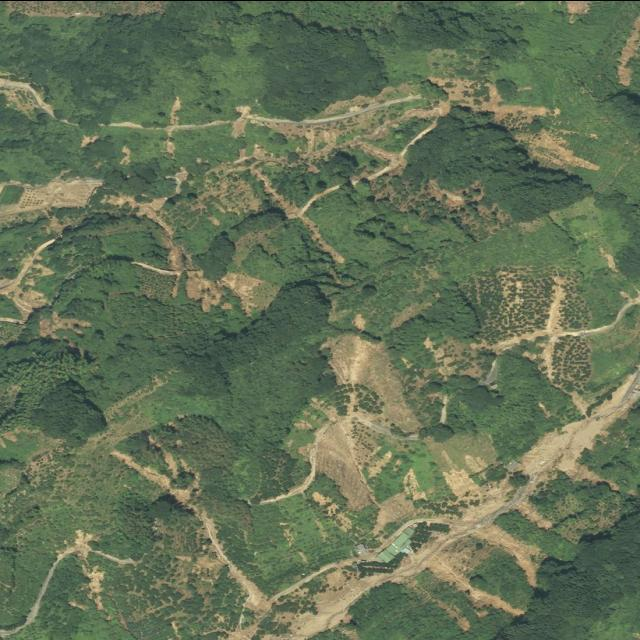landslide: (420, 369, 640, 616), (255, 391, 418, 530), (99, 194, 270, 315), (72, 369, 202, 507), (430, 75, 601, 170), (1, 172, 102, 324), (323, 333, 419, 430), (265, 185, 343, 262), (537, 416, 606, 472), (37, 310, 93, 339), (443, 470, 478, 494)
